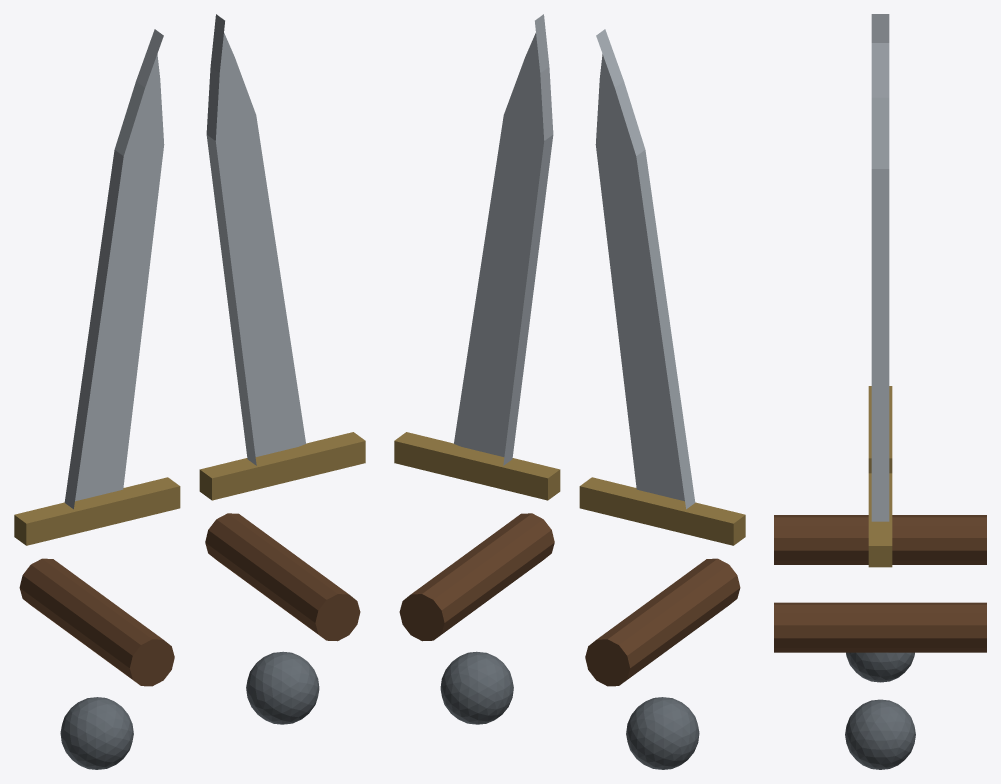
Rendered from dual_daggers.glb.
3 renders of one model, left to right at view 1: azimuth 30°, elevation 25°; view 2: azimuth 150°, elevation 25°; view 3: azimuth 270°, elevation 25°, orthographic. The views are drawn at different scales.
Parts seen in each view (by area): view 1: dual_daggers_1, dual_daggers_5, dual_daggers_0, dual_daggers_4, dual_daggers_6, dual_daggers_2, dual_daggers_3, dual_daggers_7; view 2: dual_daggers_1, dual_daggers_5, dual_daggers_0, dual_daggers_4, dual_daggers_6, dual_daggers_2, dual_daggers_3, dual_daggers_7; view 3: dual_daggers_4, dual_daggers_0, dual_daggers_5, dual_daggers_7, dual_daggers_3, dual_daggers_6, dual_daggers_2, dual_daggers_1.
Part boxes in pixels (<box>): dual_daggers_1: <box>64,29,164,509</box>; dual_daggers_5: <box>206,14,305,465</box>; dual_daggers_0: <box>19,558,174,686</box>; dual_daggers_4: <box>205,513,360,641</box>; dual_daggers_6: <box>199,432,365,500</box>; dual_daggers_2: <box>14,477,180,545</box>; dual_daggers_3: <box>60,697,133,769</box>; dual_daggers_7: <box>246,651,319,724</box>; dual_daggers_1: <box>595,29,695,509</box>; dual_daggers_5: <box>454,14,553,465</box>; dual_daggers_0: <box>585,558,740,686</box>; dual_daggers_4: <box>399,513,554,641</box>; dual_daggers_6: <box>394,432,560,500</box>; dual_daggers_2: <box>579,477,745,545</box>; dual_daggers_3: <box>626,697,699,769</box>; dual_daggers_7: <box>440,651,513,724</box>; dual_daggers_4: <box>774,602,986,652</box>; dual_daggers_0: <box>774,515,986,564</box>; dual_daggers_5: <box>871,43,889,521</box>; dual_daggers_7: <box>845,699,915,769</box>; dual_daggers_3: <box>846,652,914,682</box>; dual_daggers_6: <box>868,473,892,567</box>; dual_daggers_2: <box>868,386,892,473</box>; dual_daggers_1: <box>871,14,889,42</box>.
Size of the model in its own units: 1.28 by 2.59 by 0.72.
